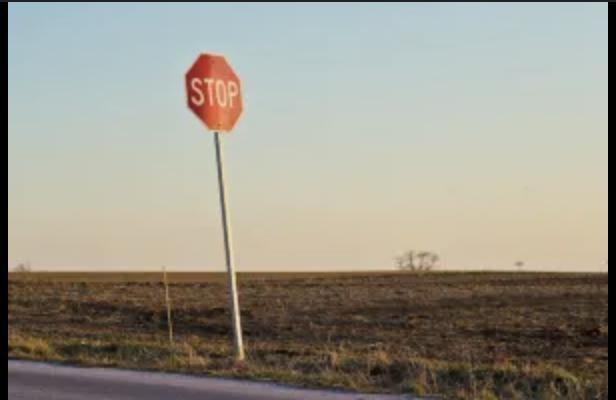Stop-Sign: (186, 54, 244, 130)
